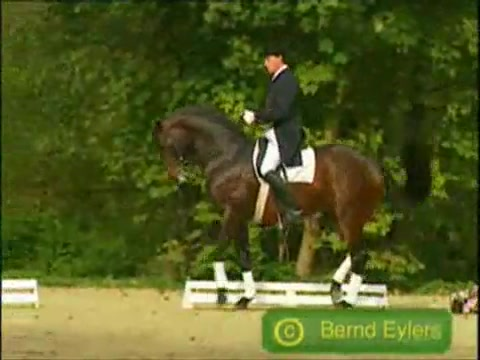horse: (152, 109, 431, 311)
